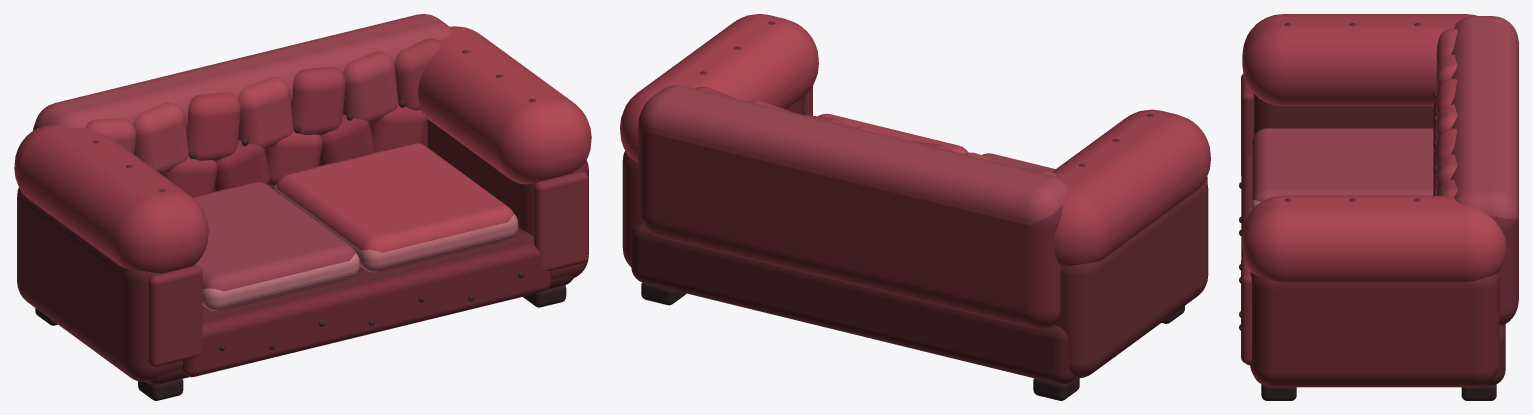
File: chesterfield-loveseat-astra.glb
3 views of the same model, side by side, from view 1: azimuth 30°, elevation 25°; view 2: azimuth 150°, elevation 25°; view 3: azimuth 270°, elevation 25° (orthographic). The views are drawn at different scales.
Visible parts, largest first — view 1: piece; view 2: piece; view 3: piece.
Boxes of the visible parts, bbox=[...] form: piece: bbox=[14, 14, 591, 400]; piece: bbox=[620, 14, 1210, 400]; piece: bbox=[1239, 14, 1518, 400].
Bounding box in the file's own units: 1.8 × 0.75 × 0.95.
